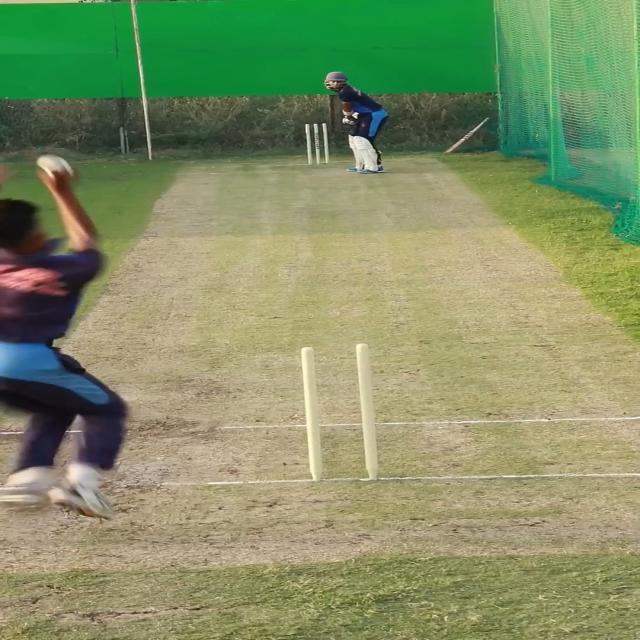stump: (302, 343, 381, 482), (304, 123, 331, 165)
